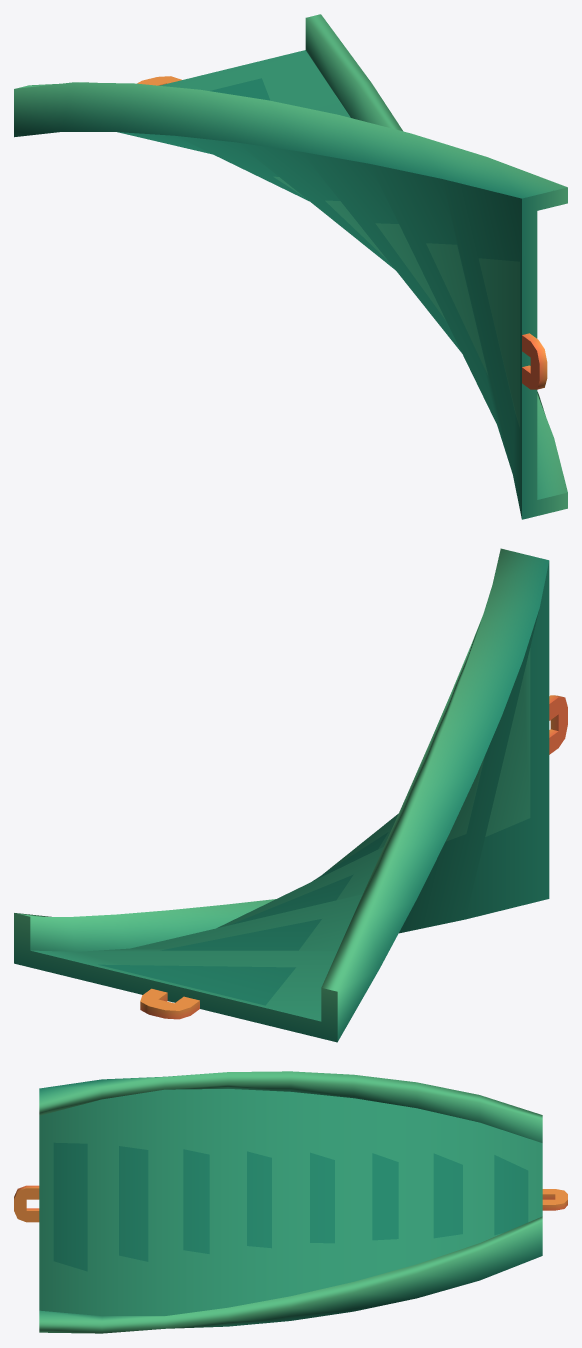
File: track-wide-straight-skew-left-side.fbx
3 views of the same model, one above another, from view 1: azimuth 30°, elevation 25°; view 2: azimuth 150°, elevation 25°; view 3: azimuth 270°, elevation 25° (orthographic). The views are drawn at different scales.
Parts seen in each view (by area): view 1: track-wide-straight-skew-left-side; view 2: track-wide-straight-skew-left-side; view 3: track-wide-straight-skew-left-side.
Part boxes in pixels (x1=…): track-wide-straight-skew-left-side: x1=14, y1=14, x2=567, y2=519; track-wide-straight-skew-left-side: x1=14, y1=548, x2=567, y2=1042; track-wide-straight-skew-left-side: x1=14, y1=1071, x2=567, y2=1333.
Bounding box in the file's own units: 204 × 204 × 440.
